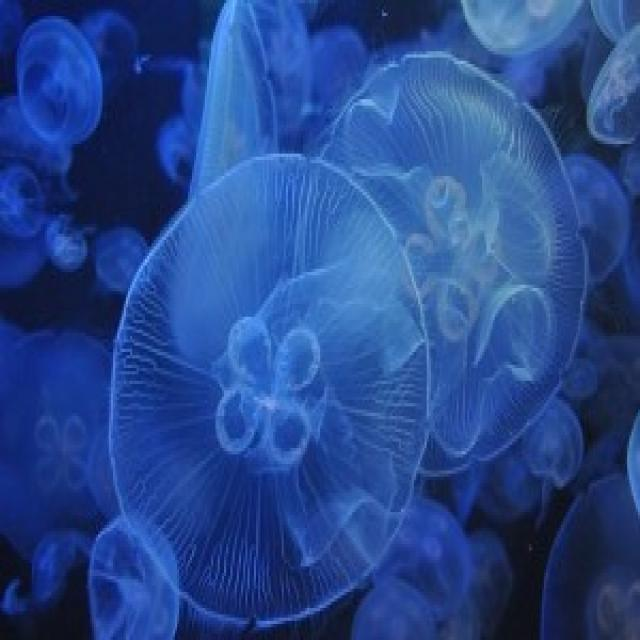Jellyfish: (102, 152, 425, 598), (336, 58, 592, 456), (13, 14, 104, 141), (87, 521, 183, 640), (332, 67, 336, 76)
